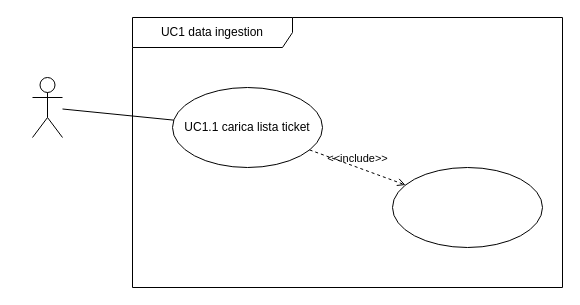
Image size: 580x305. Some labels were removed from this diagram. Here are the shapes that lost their labels. From the top down, the box of each, then its label:
(32, 76, 62, 138): Companion
(392, 166, 542, 248): UC1.1.1 carica blocco ticket
